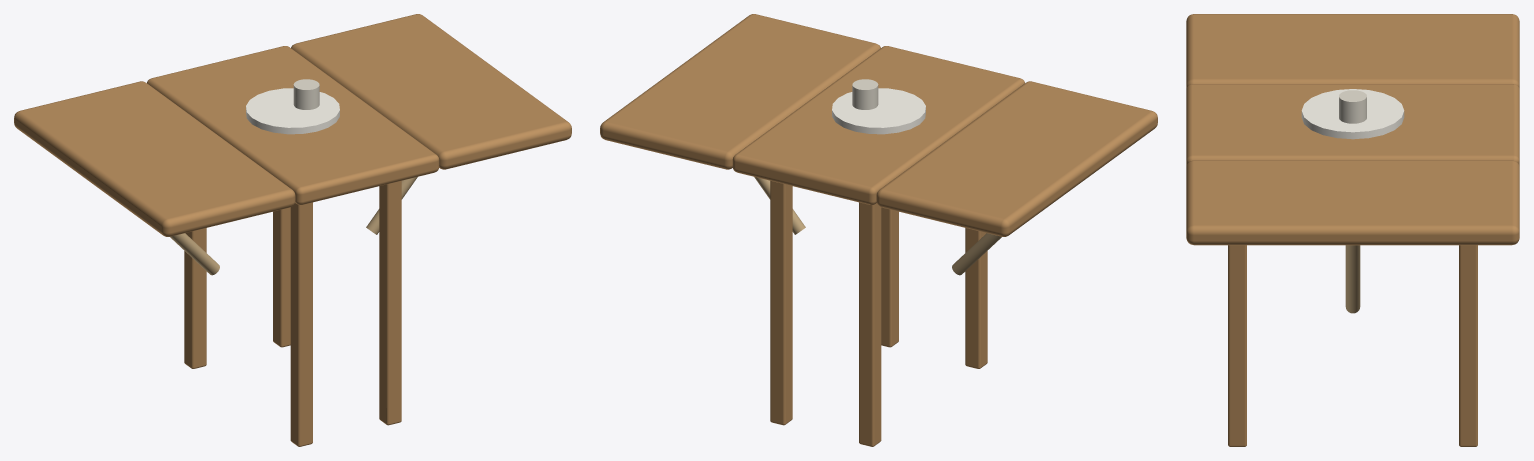
3 renders of one model, left to right at view 1: azimuth 30°, elevation 25°; view 2: azimuth 150°, elevation 25°; view 3: azimuth 270°, elevation 25°, orthographic. The views are drawn at different scales.
Visible parts, largest first — view 1: Folding oak leaf (×2), Compact core tabletop, Tapered leg (×4), Ceramic tray, Espresso cup, Gate support; view 2: Folding oak leaf (×2), Compact core tabletop, Tapered leg (×4), Ceramic tray, Espresso cup, Gate support; view 3: Folding oak leaf (×2), Compact core tabletop, Tapered leg (×2), Ceramic tray, Gate support, Espresso cup.
Part boxes in pixels (x1,y1,x2,y2): Folding oak leaf (×2): (14,14,571,236); Compact core tabletop: (147,46,439,204); Tapered leg (×4): (184,181,401,446); Ceramic tray: (246,88,339,134); Espresso cup: (293,79,319,109); Gate support: (170,233,219,275); Folding oak leaf (×2): (600,14,1157,236); Compact core tabletop: (732,46,1024,204); Tapered leg (×4): (770,181,987,446); Ceramic tray: (832,88,925,134); Espresso cup: (852,79,878,109); Gate support: (952,233,1001,275); Folding oak leaf (×2): (1186,14,1519,245); Compact core tabletop: (1186,84,1519,166); Tapered leg (×2): (1228,245,1477,446); Ceramic tray: (1301,89,1404,139); Gate support: (1345,245,1360,313); Espresso cup: (1339,90,1366,123).
Bounding box in the file's own units: 1.2 × 0.855 × 0.78.
